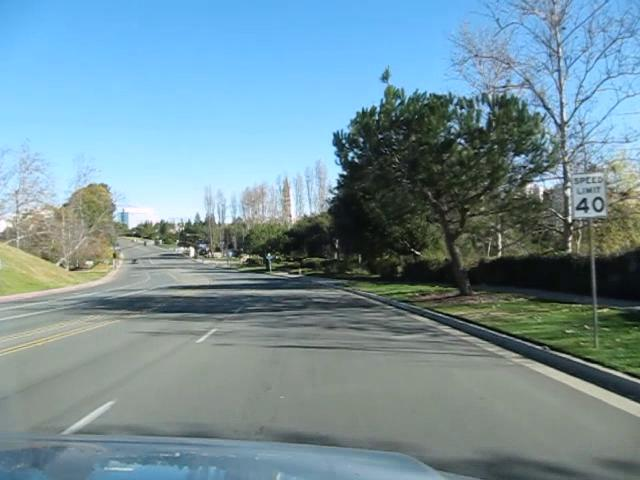speedLimit40: (569, 170, 609, 219)
